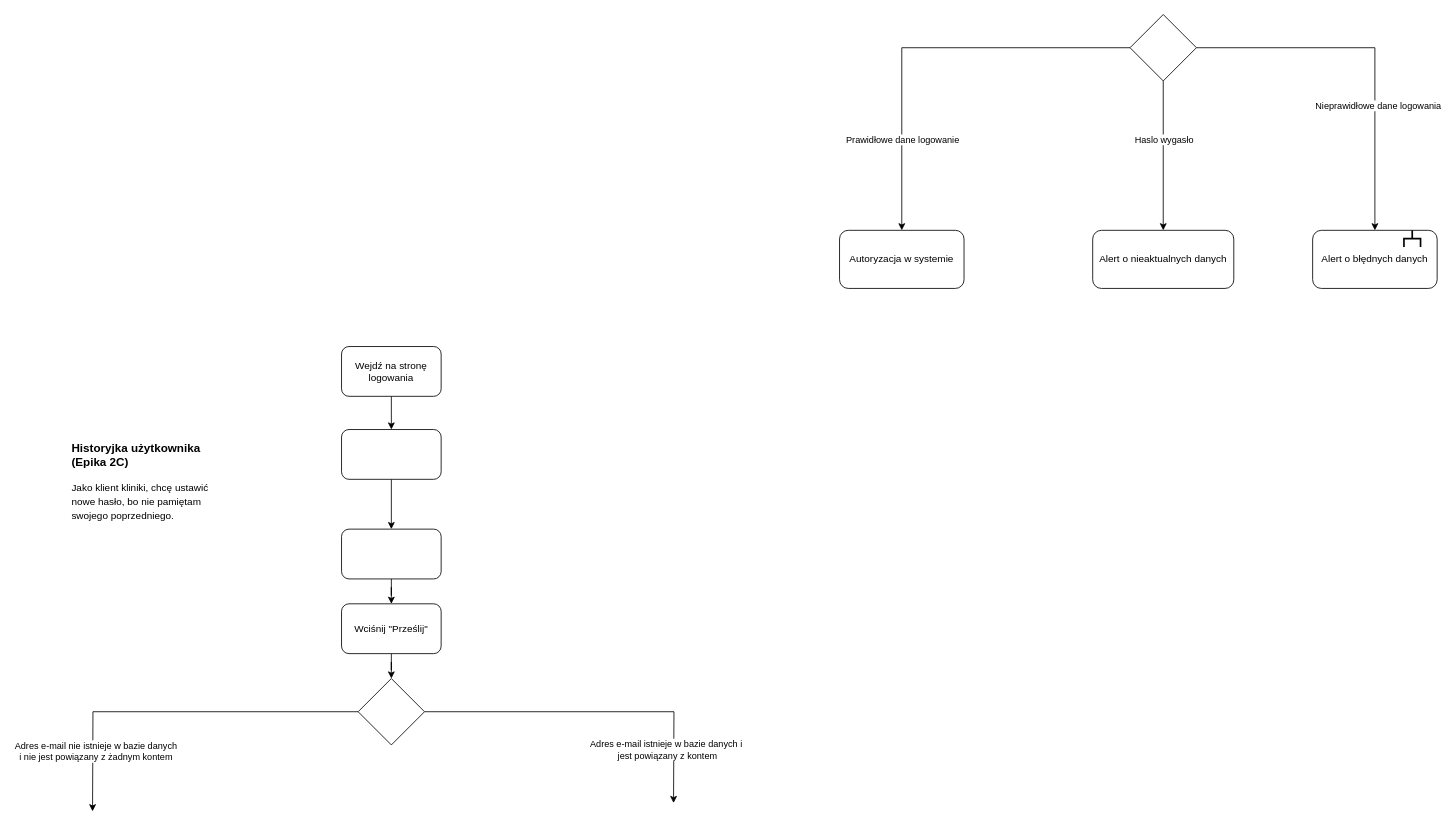
This 1455x832 diagram has some shape labels left out. The box of each missing label's shape, as (x1, y1, x2, y2) in pixels:
Wprowadź swój adres e-mail powiązanym z kontem: (341, 528, 441, 579)
Wybierz opcje "Zapomniałem hasła": (341, 429, 441, 479)
